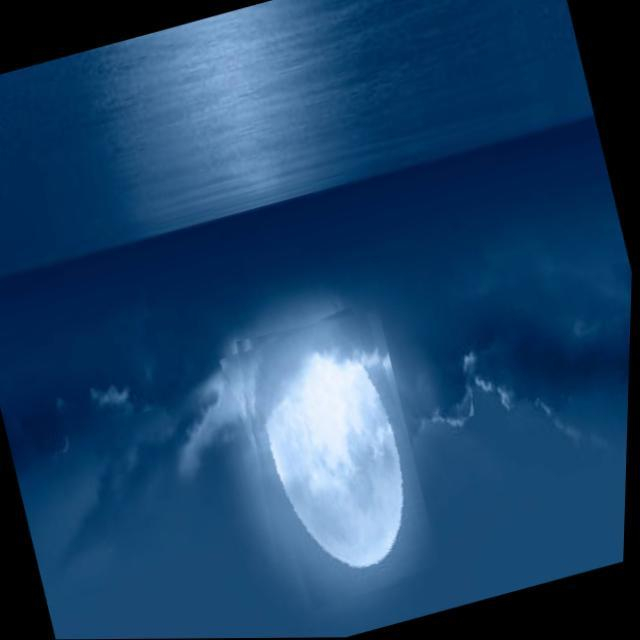moon: (220, 303, 451, 614)
